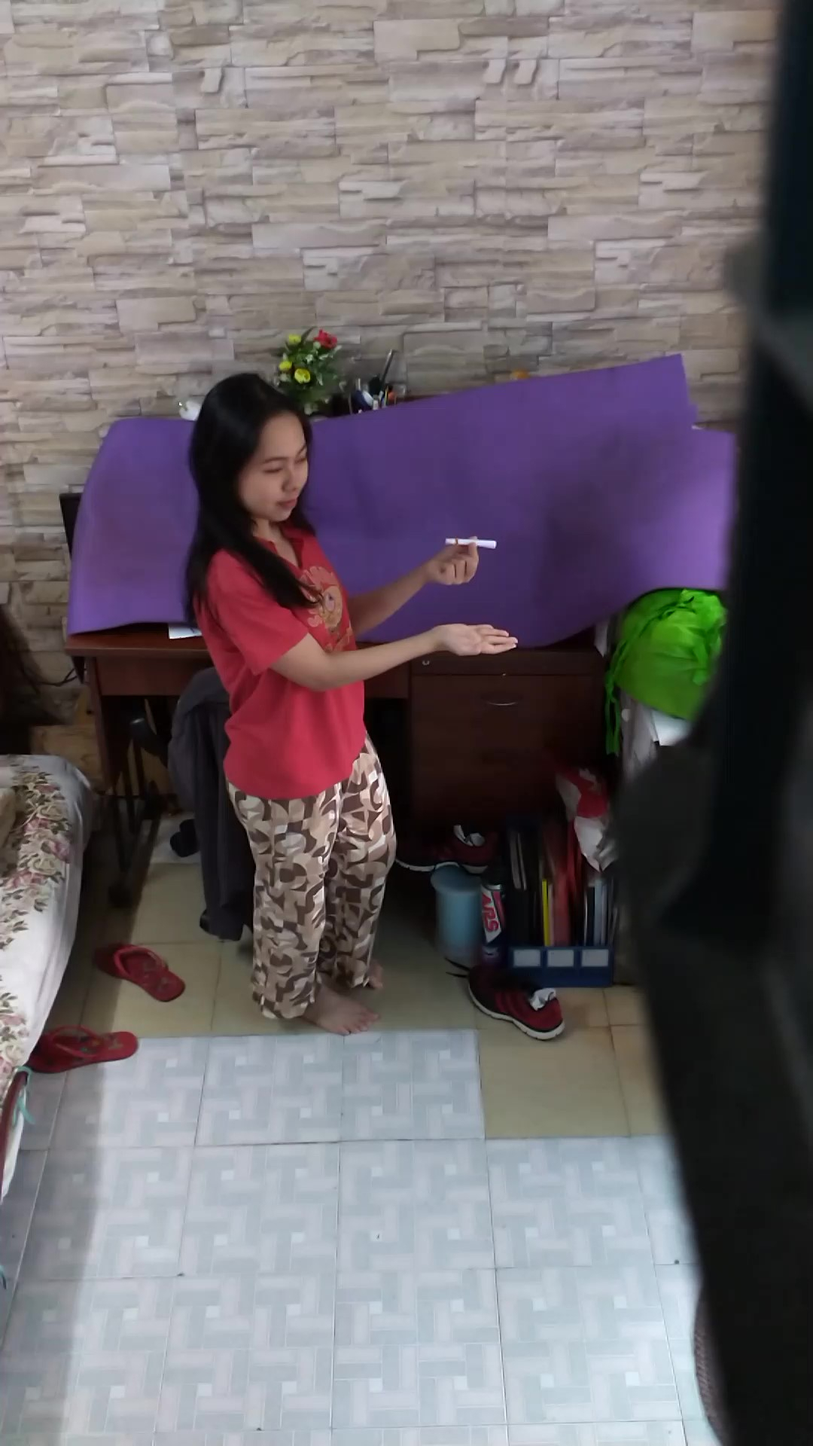cigarette: (441, 534, 500, 554)
person: (182, 389, 497, 1031)
